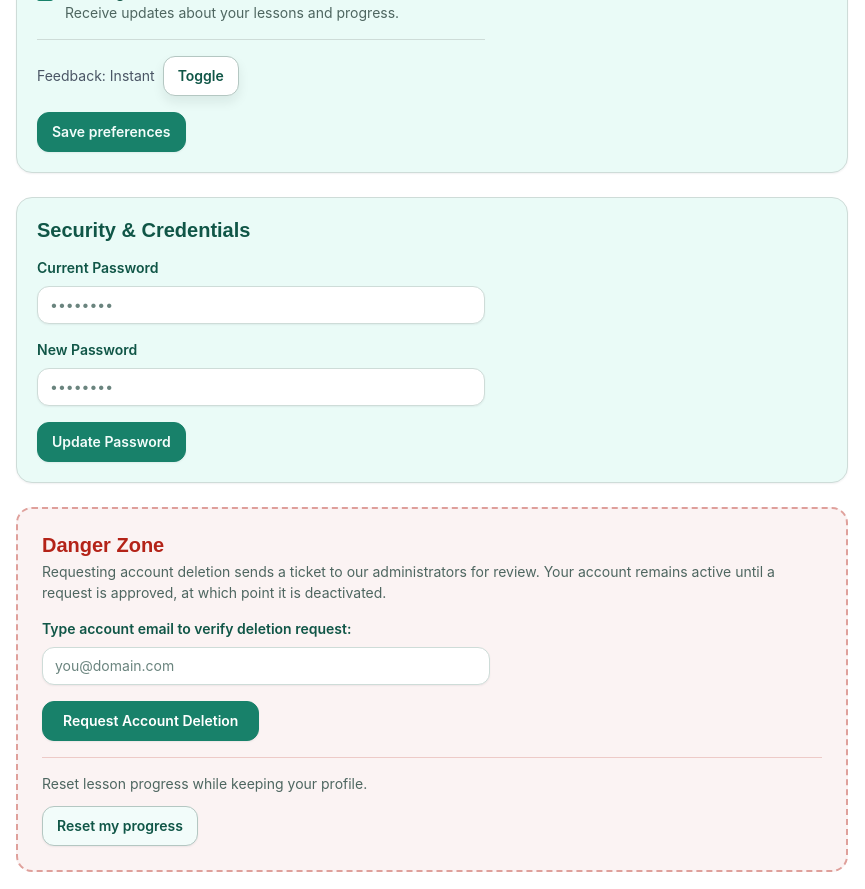
it: ProfilePage › resets progress only after confirmation and refreshes the profile
(page scrolled)
Click the button "Reset my progress" at (120, 826), box x1=42 y1=806 x2=198 y2=846
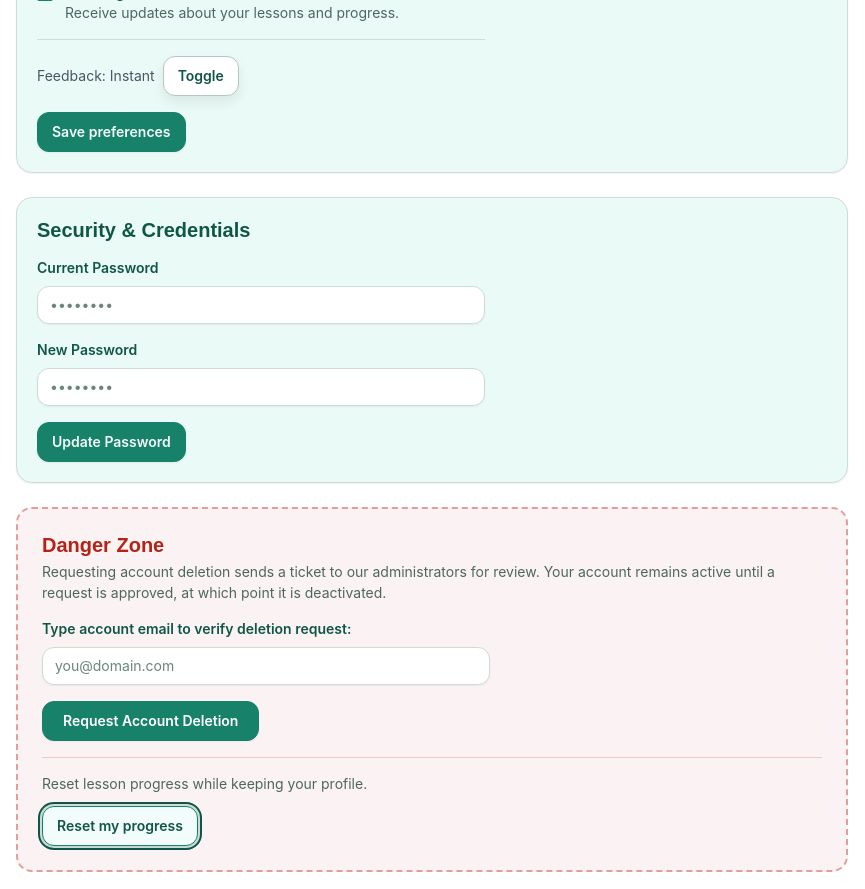
Click the button "Reset my progress" at (120, 826), box x1=42 y1=806 x2=198 y2=846
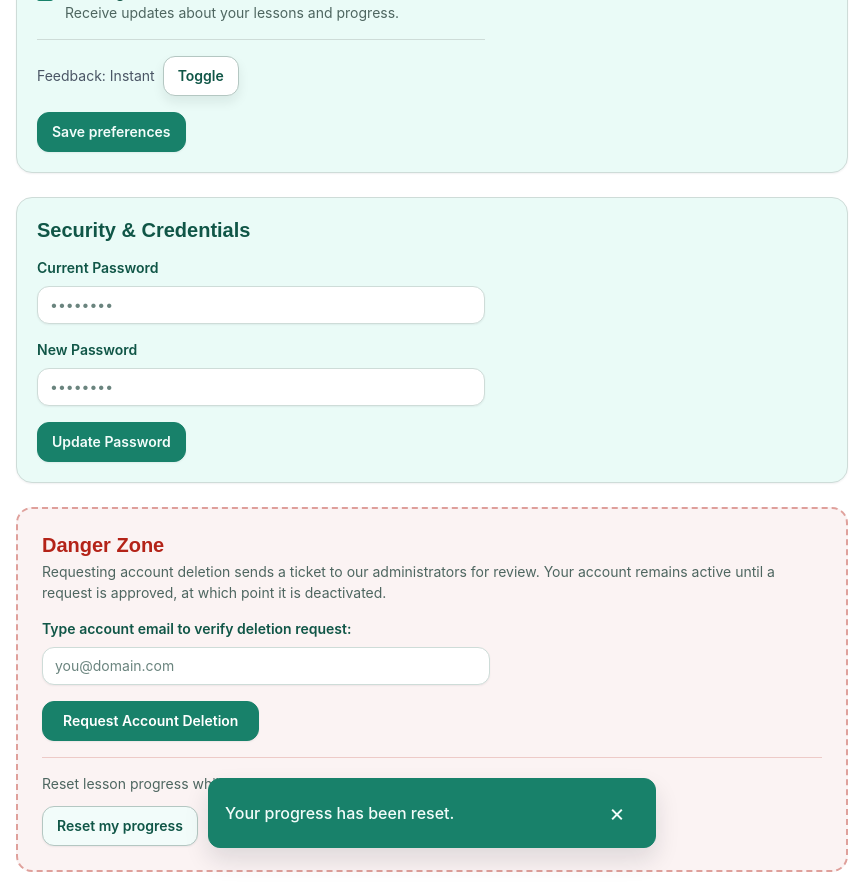
Now the message reads "Your progress has been reset.", box x1=225 y1=803 x2=454 y2=823
